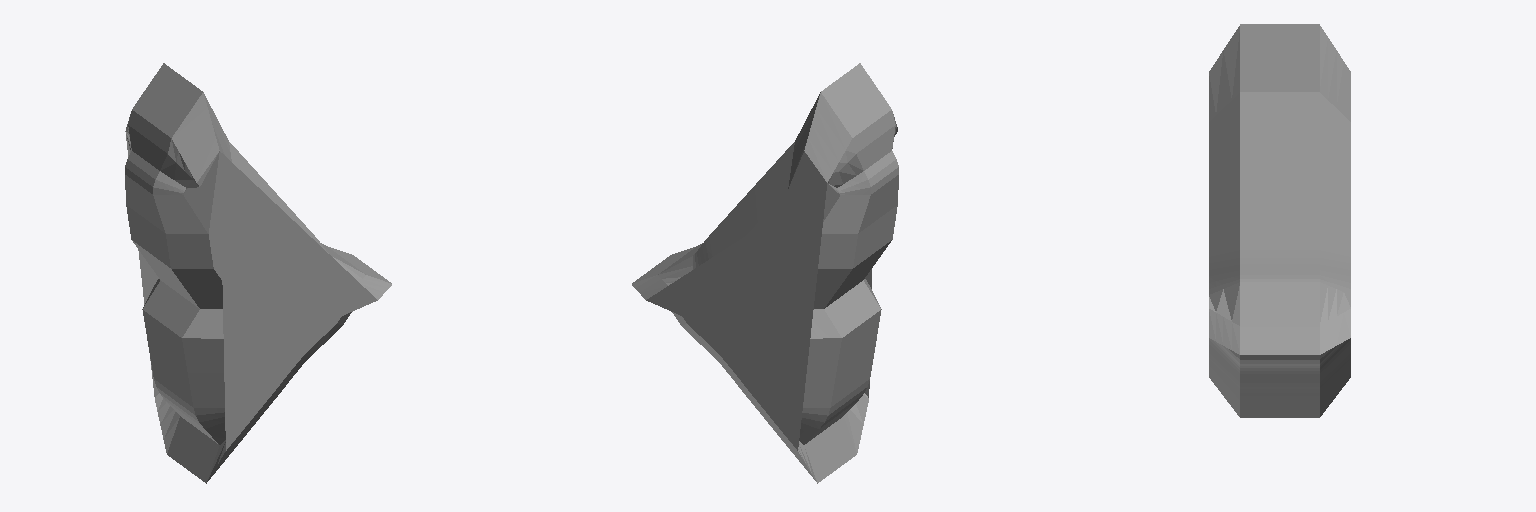
Rendered from shard-object-test1.obj.
The picture shows the model from 3 angles: view 1: azimuth 30°, elevation 25°; view 2: azimuth 150°, elevation 25°; view 3: azimuth 270°, elevation 25°; orthographic projection.
Parts seen in each view (by area): view 1: glass_shard1:pasted__bevelPolygon77_glass_shard1:group1; view 2: glass_shard1:pasted__bevelPolygon77_glass_shard1:group1; view 3: glass_shard1:pasted__bevelPolygon77_glass_shard1:group1.
Boxes of the visible parts, x1=… form: glass_shard1:pasted__bevelPolygon77_glass_shard1:group1: x1=125, y1=63, x2=391, y2=483; glass_shard1:pasted__bevelPolygon77_glass_shard1:group1: x1=632, y1=63, x2=898, y2=483; glass_shard1:pasted__bevelPolygon77_glass_shard1:group1: x1=1209, y1=24, x2=1350, y2=417.
Size of the model in its own units: 0.8543 by 1.37 by 0.45.